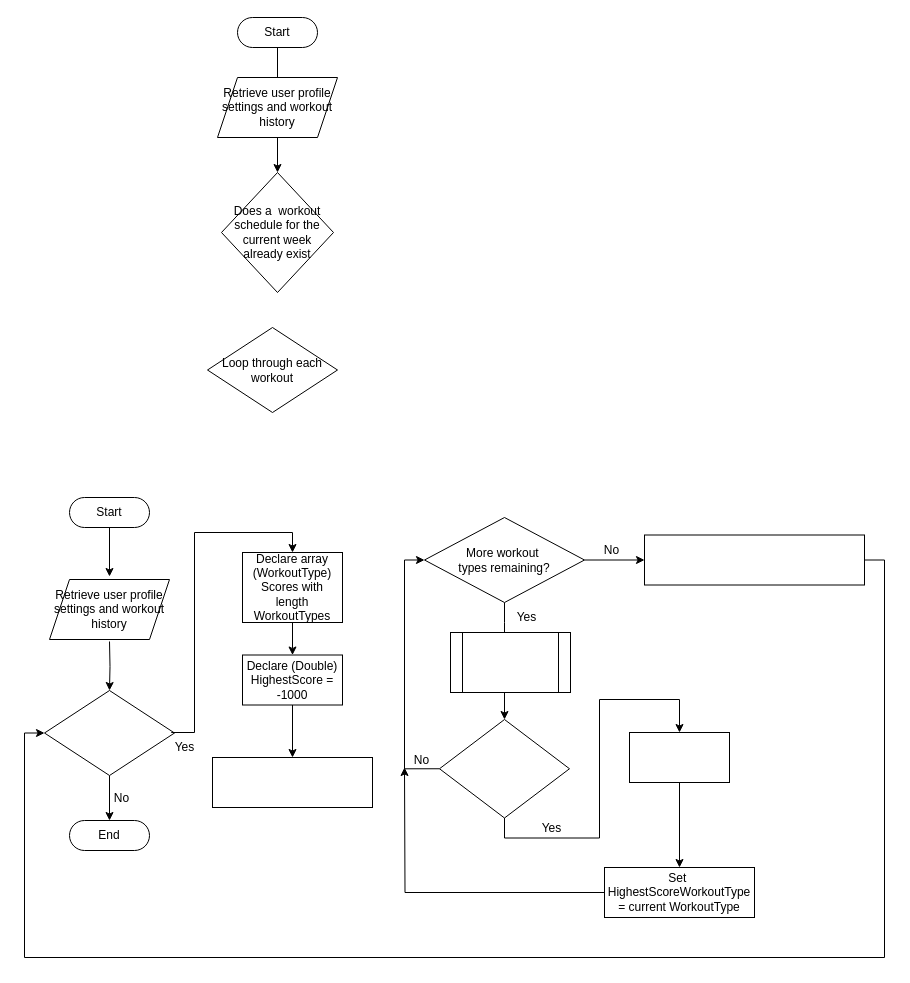
This 910x983 diagram has some shape labels left out. Here are the shapes that lost their labels. From the top down, the centre of each, then its label:
At [754,559]: "Set WorkoutType for the slot equal to HighestScoreWorkoutType".
At [510,662]: "Perform score calculation".
At [109,733]: "Any workout slots remaining?".
At [504,768]: "Is Score bigger than current highest score?".
At [679,757]: "Set HighestScore = Score".
At [292,782]: "Declare WorkoutType HighestScoreWorkoutType".
